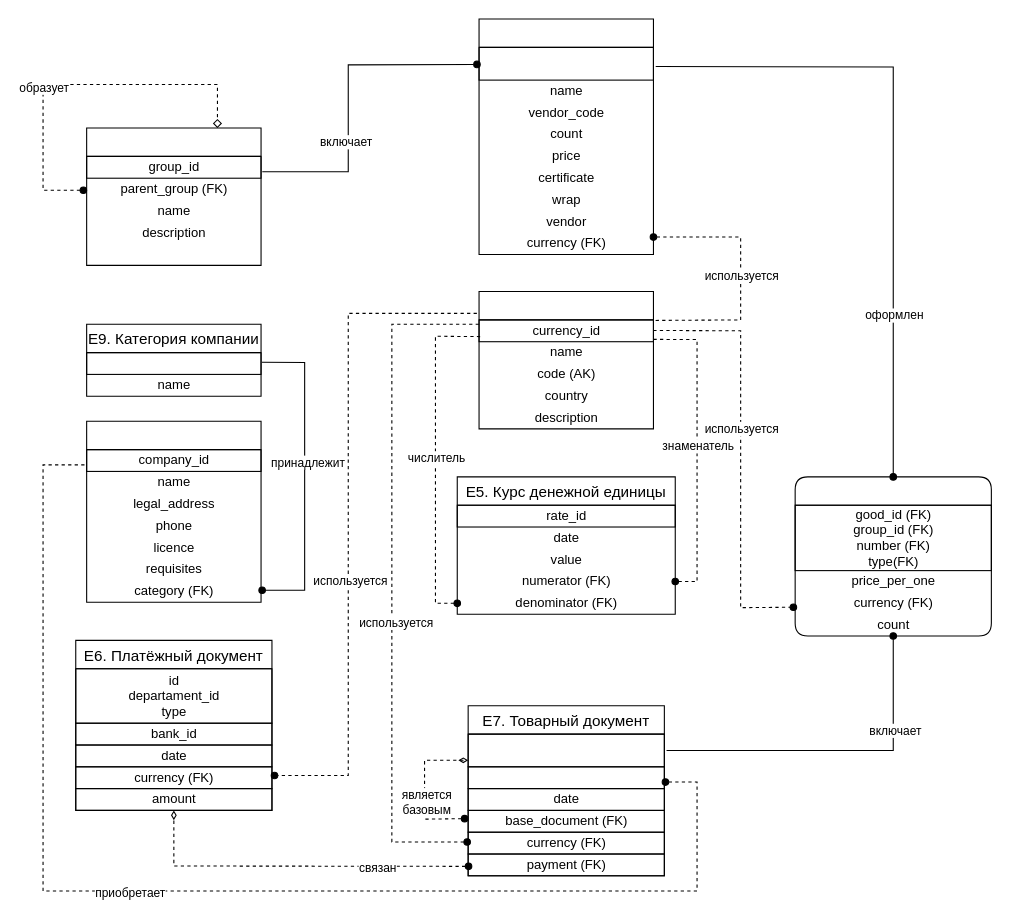
Some shapes in this 1010 by 919 pixel diagram are drawn without their labels. The shapes that lost their labels are listed below. From the top down, each one's box as (x1, y1, x2, y2) in pixels, then its label:
(478, 46, 653, 80): good_id group_id (FK)
(478, 18, 653, 255): E2. Товар
(86, 127, 261, 265): E1. Группа товаров
(86, 352, 261, 374): category_id
(478, 290, 653, 429): E4. Денежная единица
(86, 420, 261, 602): E3. Фирма покупатель
(794, 476, 991, 636): E8. Товар - ТД
(467, 733, 664, 767): number type
(467, 766, 664, 789): company (FK)
